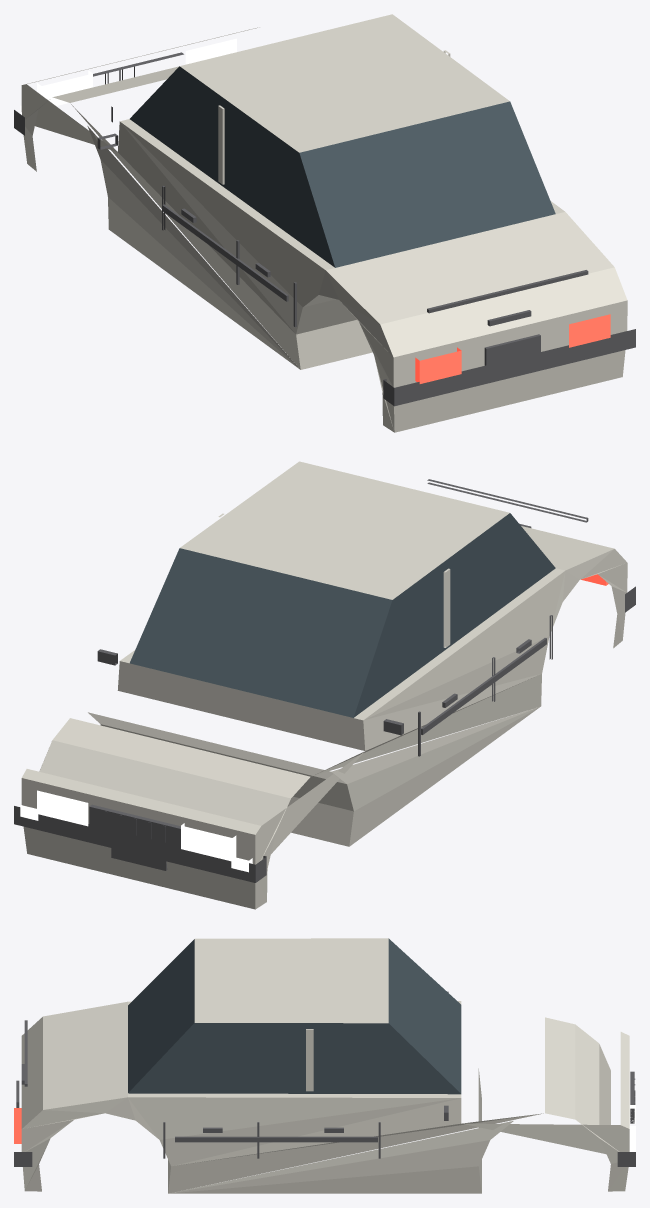
File: vaz_2106.glb
3 views of the same model, one above another, from view 1: azimuth 30°, elevation 25°; view 2: azimuth 150°, elevation 25°; view 3: azimuth 270°, elevation 25° (orthographic). The views are drawn at different scales.
Parts seen in each view (by area): view 1: car_body; view 2: car_body; view 3: car_body.
Boxes of the visible parts, x1,y1,x2,y2 form: car_body: (14,14,635,432); car_body: (14,461,635,909); car_body: (14,938,635,1193).
Bounding box in the file's own units: 1.89 × 1.2 × 4.1.
